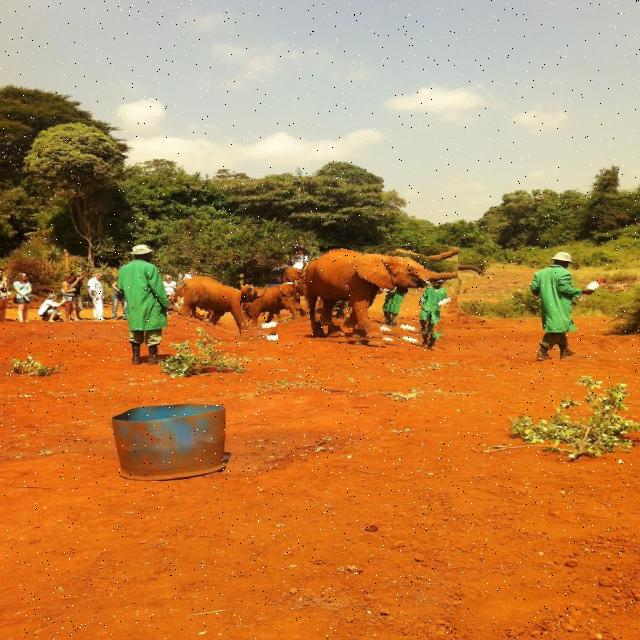elephant: (278, 246, 459, 348), (171, 271, 278, 342), (241, 284, 312, 338)
